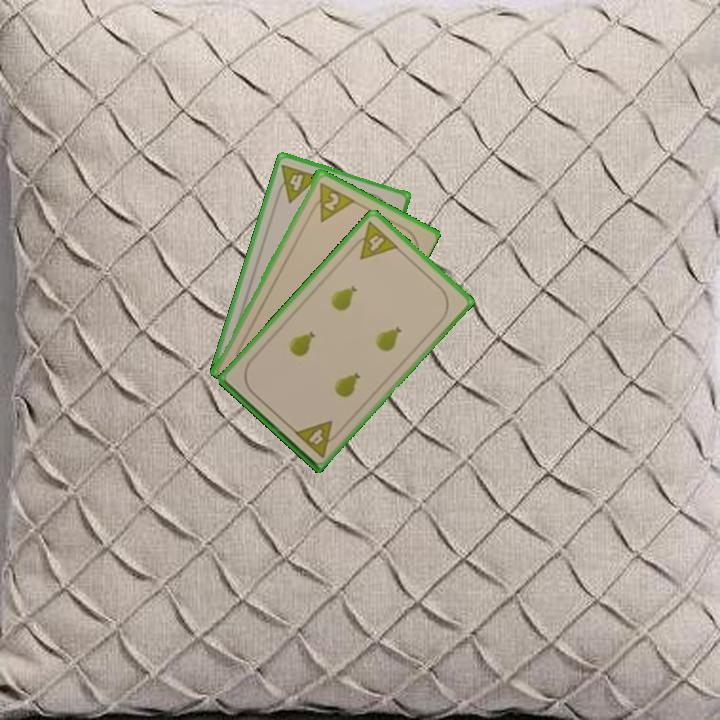2p: (307, 178, 356, 224)
4p: (346, 218, 401, 262), (291, 417, 344, 461), (272, 160, 322, 205)
